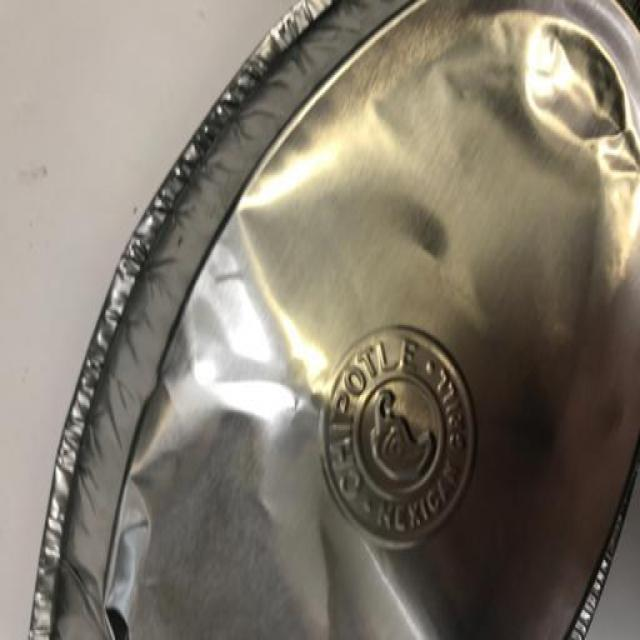metel: (7, 1, 640, 640)
